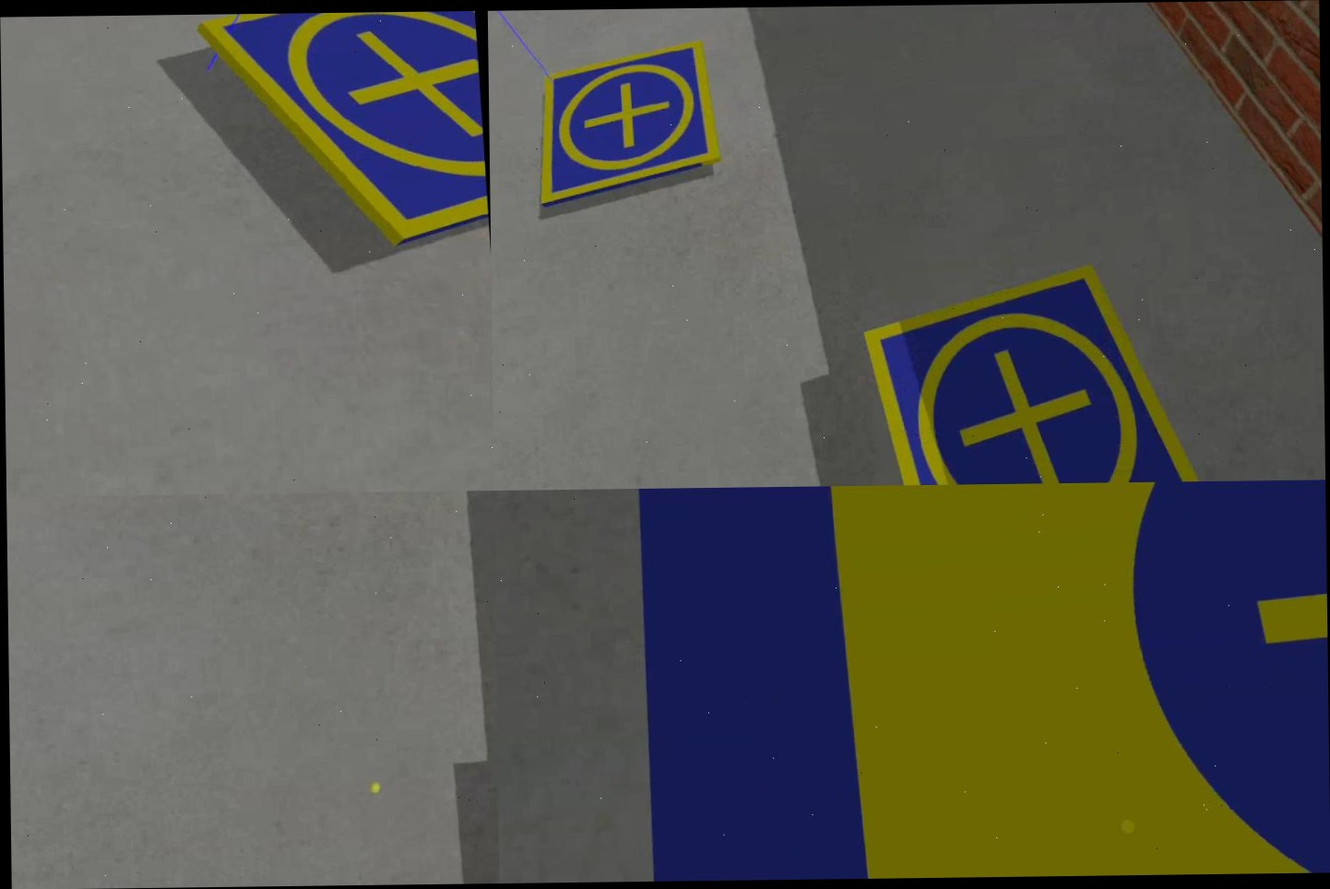large_base: (627, 480, 1330, 881)
small_base: (857, 255, 1205, 486), (195, 11, 491, 255), (528, 37, 727, 211)
